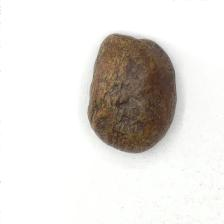NG: (88, 69, 146, 149)
